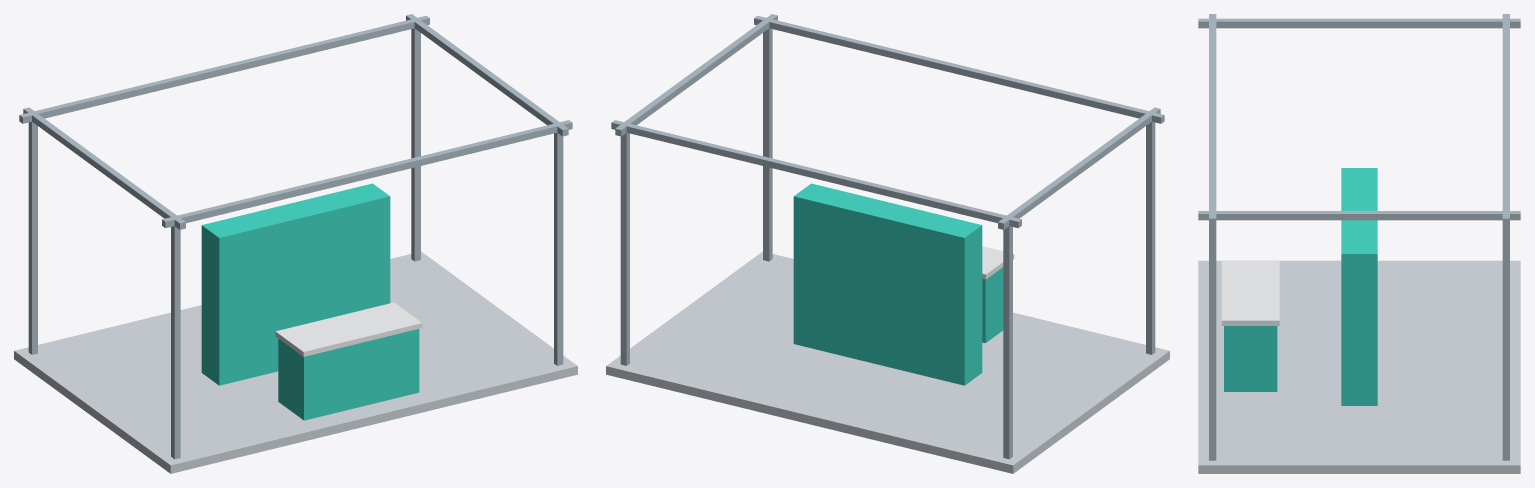
The picture shows the model from 3 angles, left to right: view 1: azimuth 30°, elevation 25°; view 2: azimuth 150°, elevation 25°; view 3: azimuth 270°, elevation 25°; orthographic projection. The views are drawn at different scales.
Visible parts, largest first — view 1: Exhibition Booth Concept; view 2: Exhibition Booth Concept; view 3: Exhibition Booth Concept.
Boxes of the visible parts, x1,y1,x2,y2 form: Exhibition Booth Concept: (14, 14, 577, 473); Exhibition Booth Concept: (606, 14, 1169, 473); Exhibition Booth Concept: (1198, 14, 1520, 473).
Bounding box in the file's own units: 6 × 3.49 × 4.
